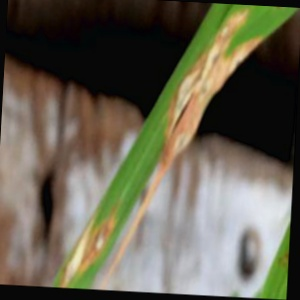Brown_Spot: (154, 9, 264, 164), (84, 213, 119, 258)
